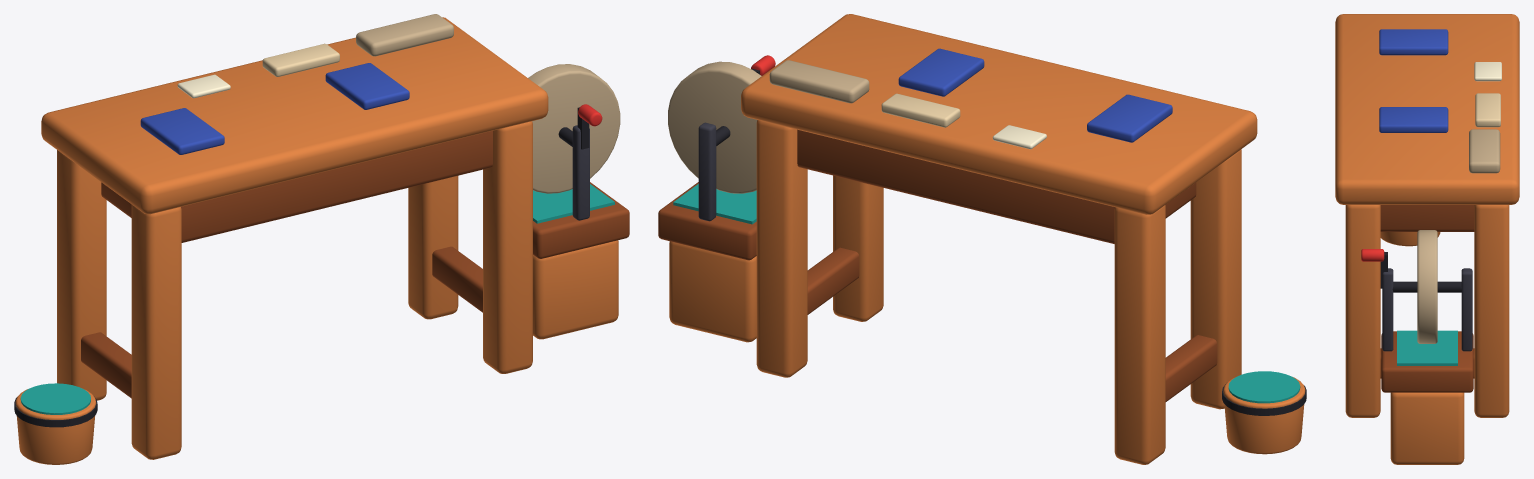
The model's file is PolishStation.fbx.
3 views of the same model, side by side, from view 1: azimuth 30°, elevation 25°; view 2: azimuth 150°, elevation 25°; view 3: azimuth 270°, elevation 25° (orthographic). The views are drawn at different scales.
Parts seen in each view (by area): view 1: Top.001, Leg.006, Apron.001, Leg.008, Leg.007, Wheel, TroughStand, Leg.009, Trough, Bucket, Stone, Pad.008 (+9 smaller); view 2: Top.001, Leg.007, Leg.009, Apron.001, Leg.006, Wheel, TroughStand, Leg.008, Trough, Bucket, Stone, Pad.009 (+9 smaller); view 3: Top.001, Leg.009, Leg.008, TroughStand, Trough, Apron.001, Wheel, Water, Pad.008, Pad.009, Stone, WheelPost.001 (+6 smaller).
Boxes of the visible parts, left/top/right/bottom form: Top.001: left=41, top=17, right=548, bottom=214; Leg.006: left=131, top=205, right=181, bottom=459; Apron.001: left=101, top=131, right=492, bottom=242; Leg.008: left=483, top=121, right=532, bottom=373; Leg.007: left=57, top=150, right=106, bottom=400; Wheel: left=528, top=64, right=620, bottom=193; TroughStand: left=533, top=240, right=618, bottom=339; Leg.009: left=408, top=176, right=458, bottom=319; Trough: left=533, top=182, right=629, bottom=258; Bucket: left=15, top=388, right=96, bottom=464; Stone: left=356, top=14, right=453, bottom=56; Pad.008: left=140, top=108, right=224, bottom=154; Top.001: left=741, top=14, right=1257, bottom=214; Leg.007: left=1114, top=205, right=1165, bottom=464; Leg.009: left=756, top=120, right=807, bottom=377; Apron.001: left=797, top=129, right=1196, bottom=243; Leg.006: left=1190, top=149, right=1241, bottom=409; Wheel: left=668, top=61, right=761, bottom=193; TroughStand: left=669, top=241, right=756, bottom=342; Leg.008: left=833, top=175, right=883, bottom=321; Trough: left=658, top=182, right=756, bottom=260; Bucket: left=1223, top=376, right=1305, bottom=454; Stone: left=769, top=60, right=869, bottom=103; Pad.009: left=898, top=48, right=984, bottom=96; Top.001: left=1335, top=14, right=1519, bottom=204; Leg.009: left=1474, top=205, right=1509, bottom=417; Leg.008: left=1345, top=205, right=1380, bottom=417; TroughStand: left=1390, top=392, right=1464, bottom=464; Trough: left=1381, top=331, right=1473, bottom=392; Apron.001: left=1380, top=205, right=1474, bottom=231; Wheel: left=1417, top=230, right=1437, bottom=343; Water: left=1397, top=330, right=1457, bottom=365; Pad.008: left=1379, top=29, right=1448, bottom=55; Pad.009: left=1379, top=107, right=1448, bottom=132; Stone: left=1469, top=129, right=1500, bottom=173; WheelPost.001: left=1461, top=268, right=1472, bottom=351.
Bounding box in the file's own units: 6.55 × 3.04 × 2.
